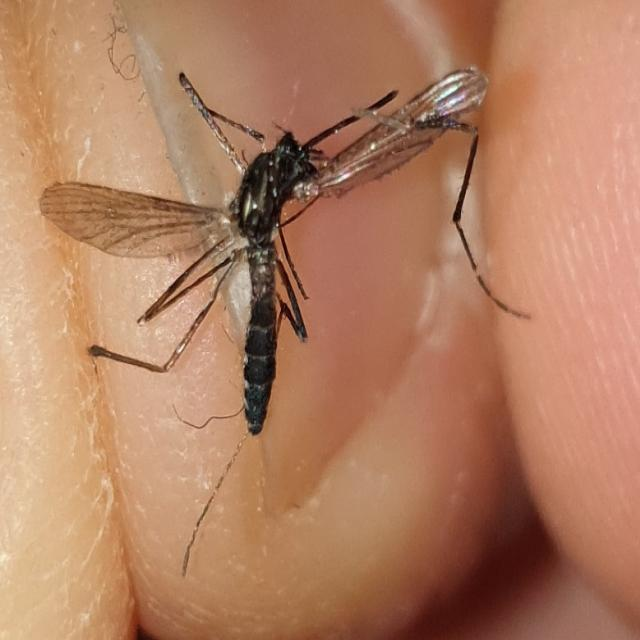albopictus: (50, 49, 521, 525)
